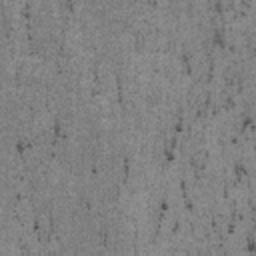Oxide scale of temperature system: (86, 0, 256, 252), (14, 116, 68, 201), (24, 0, 76, 42), (33, 216, 52, 246), (114, 77, 124, 105), (146, 0, 159, 9), (104, 230, 109, 247)
